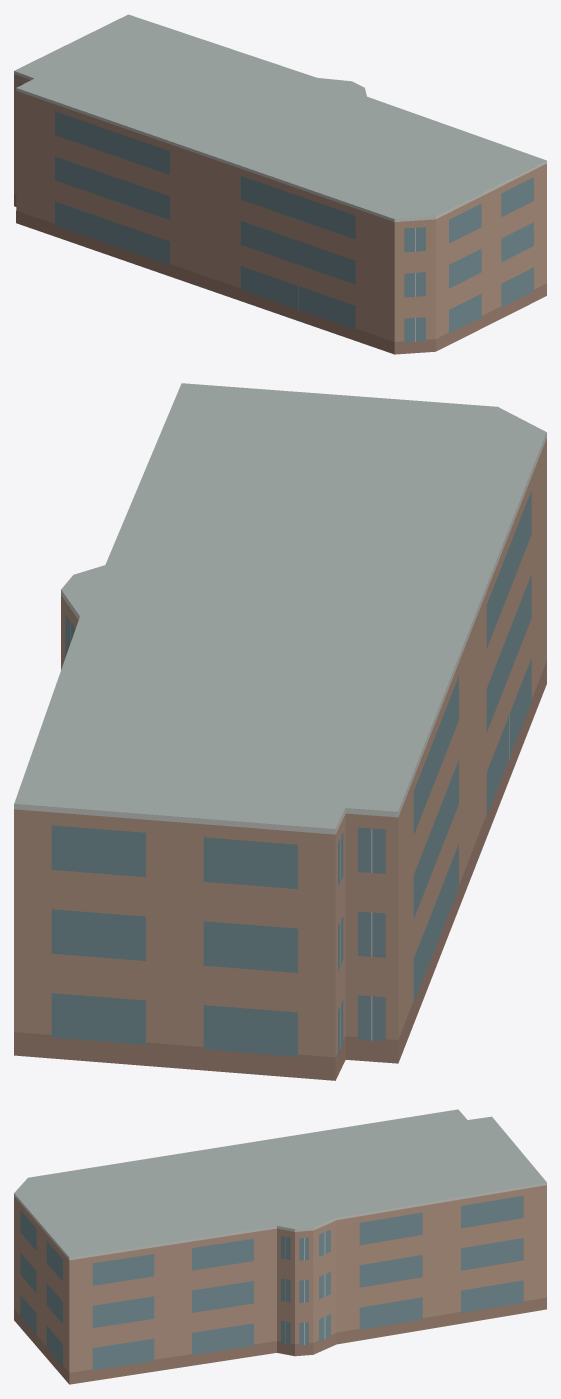
Rendered from survey-upis-32861551.glb.
The picture shows the model from 3 angles, top to bottom: view 1: azimuth 30°, elevation 25°; view 2: azimuth 150°, elevation 25°; view 3: azimuth 270°, elevation 25°; orthographic projection. The views are drawn at different scales.
Parts seen in each view (by area): view 1: survey-upis-32861551.tmp; view 2: survey-upis-32861551.tmp; view 3: survey-upis-32861551.tmp.
Part boxes in pixels (box(x1,y1,x2,y2)): survey-upis-32861551.tmp: box(14, 14, 546, 354); survey-upis-32861551.tmp: box(14, 383, 546, 1080); survey-upis-32861551.tmp: box(14, 1109, 546, 1384).
Bounding box in the file's own units: 28.04 × 11.2 × 42.59.
